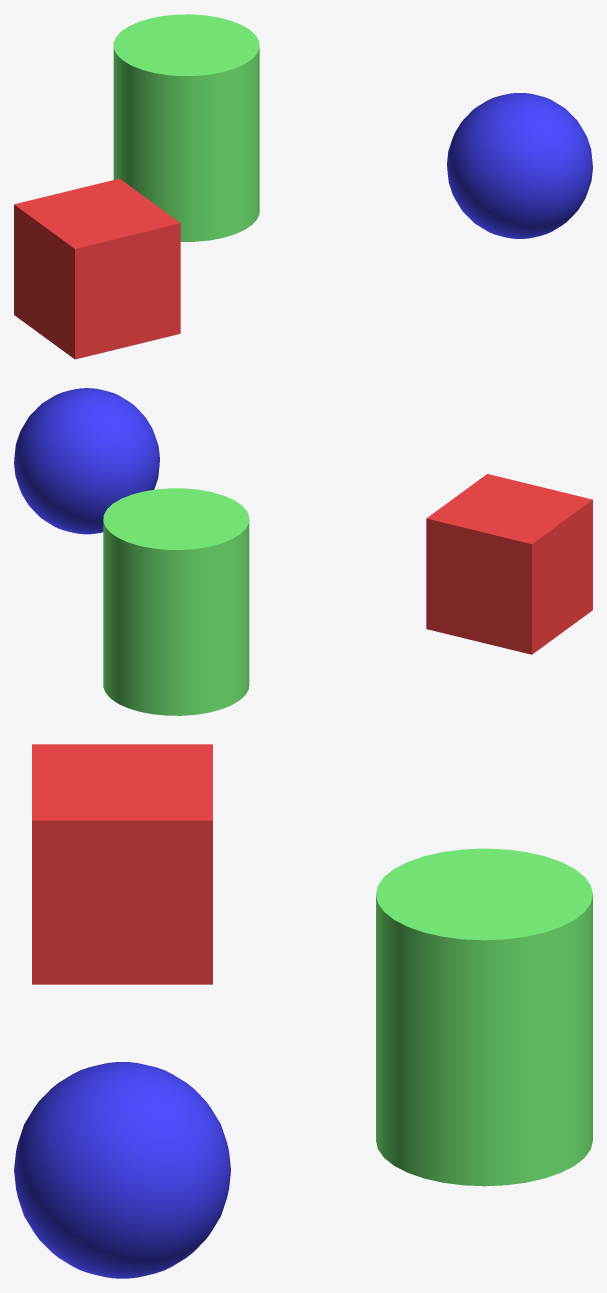
3 renders of one model, top to bottom at view 1: azimuth 30°, elevation 25°; view 2: azimuth 150°, elevation 25°; view 3: azimuth 270°, elevation 25°, orthographic. The views are drawn at different scales.
Bounding box in the file's own units: 5.1 × 1.5 × 3.2.
